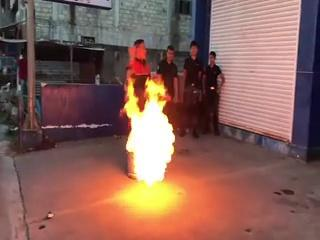Fire: (123, 69, 176, 192)
